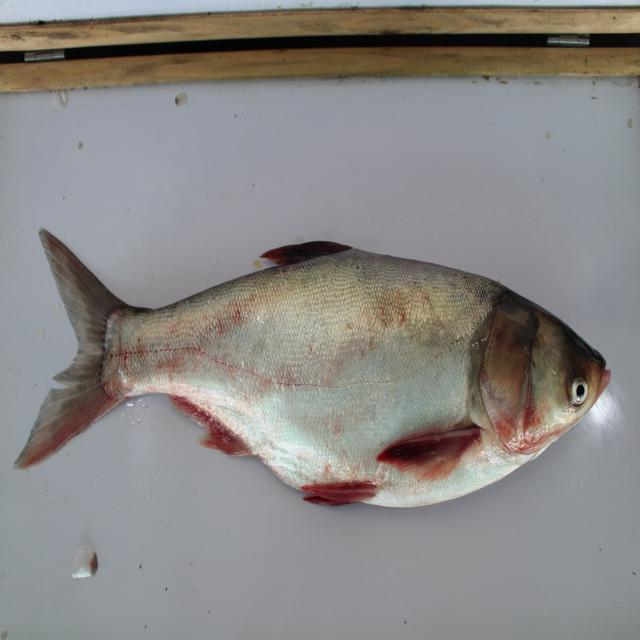SilverCarp: (33, 203, 629, 555)
